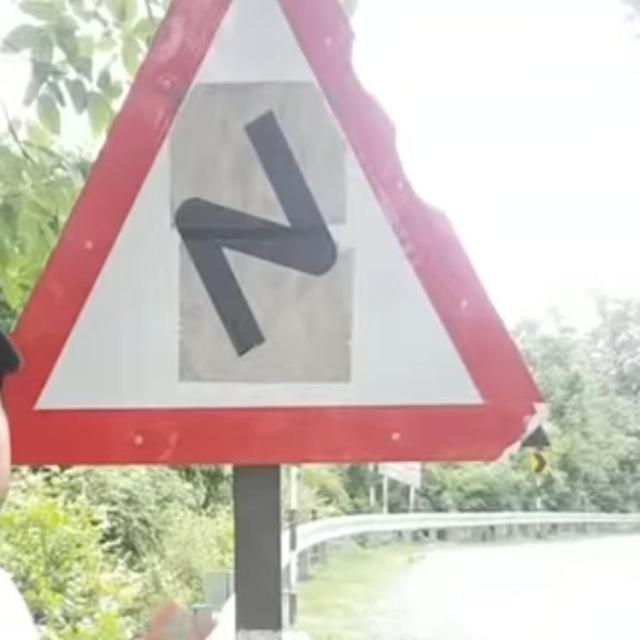dangerous_curve_ahead: (51, 16, 534, 479)
